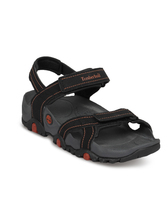shoes: (16, 55, 163, 164)
